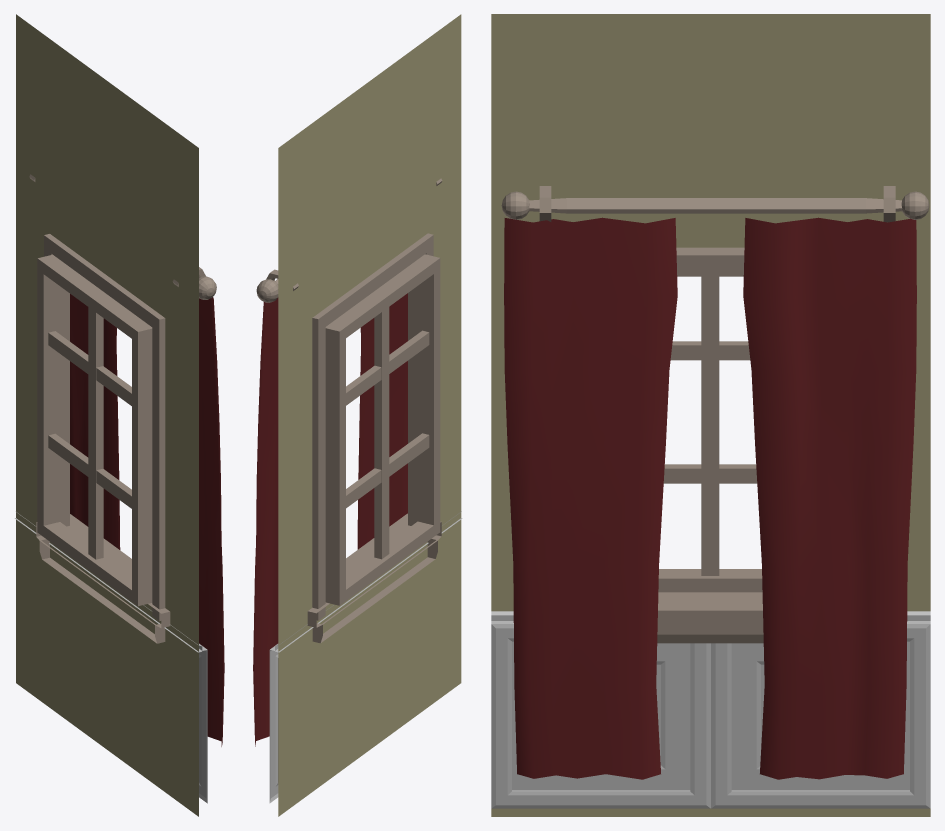
Rendered from WallWindowCurtain.fbx.
The picture shows the model from 3 angles, left to right: view 1: azimuth 30°, elevation 25°; view 2: azimuth 150°, elevation 25°; view 3: azimuth 270°, elevation 25°; orthographic projection. The views are drawn at different scales.
Parts seen in each view (by area): view 1: WallWindowCurtain; view 2: WallWindowCurtain; view 3: WallWindowCurtain.
Part boxes in pixels (bbox=[...]): WallWindowCurtain: bbox=[14, 14, 224, 816]; WallWindowCurtain: bbox=[253, 14, 462, 816]; WallWindowCurtain: bbox=[491, 14, 930, 816].
Bounding box in the file's own units: 59.51 × 605 × 300.
